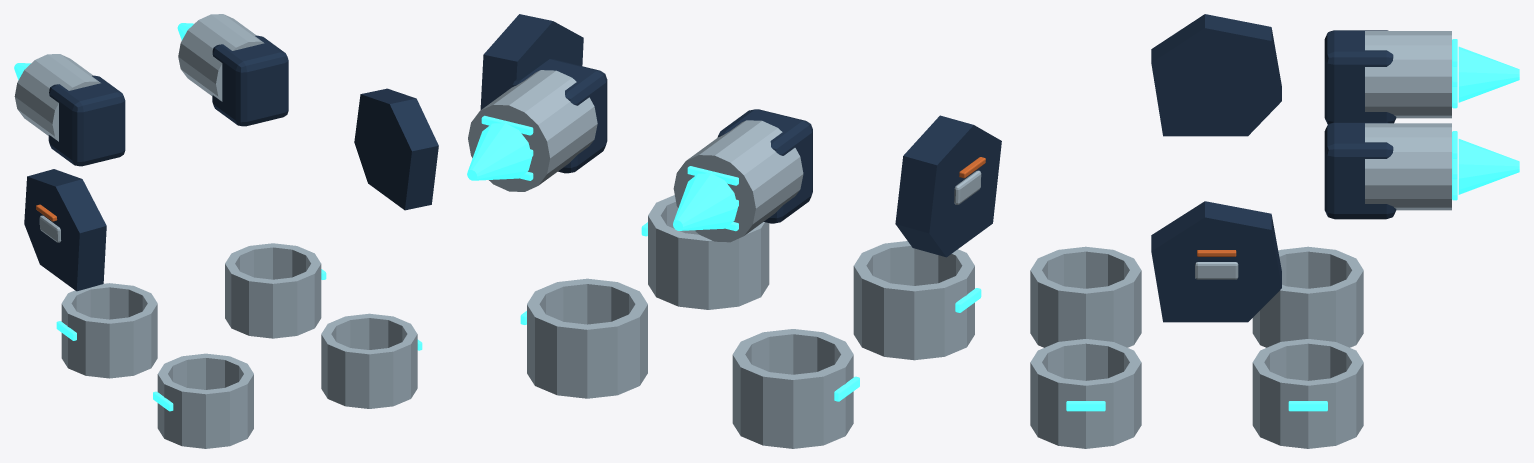
File: mechaplayer-arcade-v1-accessories.fbx
The picture shows the model from 3 angles, left to right: view 1: azimuth 30°, elevation 25°; view 2: azimuth 150°, elevation 25°; view 3: azimuth 270°, elevation 25°; orthographic projection. The views are drawn at different scales.
Visible parts, largest first — view 1: MechBoot_1_0, MechBoot_1_1, MechBoot_-1_0, MechBoot_-1_1, MechGuard_1, MechGuard_-1, ThrusterBracket_-1, ThrusterBracket_1, ThrusterHousing_1, ThrusterHousing_-1; view 2: MechBoot_1_1, MechBoot_-1_1, MechBoot_-1_0, MechGuard_-1, MechBoot_1_0, ThrusterHousing_-1, ThrusterHousing_1, MechGuard_1, ThrusterBracket_1, ThrusterBracket_-1, ThrusterPlume_-1, ThrusterPlume_1 (+1 smaller); view 3: MechGuard_-1, MechGuard_1, MechBoot_1_0, MechBoot_1_1, MechBoot_-1_0, MechBoot_-1_1, ThrusterHousing_-1, ThrusterHousing_1, ThrusterBracket_1, ThrusterBracket_-1, ThrusterPlume_1, ThrusterPlume_-1 (+1 smaller).
Boxes of the visible parts, left/top/right/bottom form: MechBoot_1_0: left=321, top=313, right=417, bottom=408; MechBoot_1_1: left=225, top=243, right=321, bottom=338; MechBoot_-1_0: left=157, top=353, right=253, bottom=448; MechBoot_-1_1: left=61, top=283, right=157, bottom=378; MechGuard_1: left=354, top=88, right=438, bottom=210; MechGuard_-1: left=24, top=169, right=106, bottom=291; ThrusterBracket_-1: left=48, top=75, right=125, bottom=166; ThrusterBracket_1: left=212, top=35, right=288, bottom=126; ThrusterHousing_1: left=178, top=14, right=264, bottom=101; ThrusterHousing_-1: left=14, top=54, right=100, bottom=141; MechBoot_1_1: left=527, top=278, right=647, bottom=398; MechBoot_-1_1: left=732, top=329, right=853, bottom=448; MechBoot_-1_0: left=853, top=241, right=974, bottom=360; MechGuard_-1: left=895, top=115, right=1001, bottom=257; MechBoot_1_0: left=648, top=195, right=769, bottom=309; ThrusterHousing_-1: left=673, top=120, right=803, bottom=242; ThrusterHousing_1: left=468, top=70, right=597, bottom=191; MechGuard_1: left=480, top=14, right=583, bottom=109; ThrusterBracket_1: left=511, top=59, right=607, bottom=173; ThrusterBracket_-1: left=717, top=109, right=812, bottom=223; ThrusterPlume_-1: left=673, top=173, right=737, bottom=230; ThrusterPlume_1: left=467, top=123, right=531, bottom=180; MechGuard_-1: left=1151, top=14, right=1281, bottom=136; MechGuard_1: left=1151, top=201, right=1281, bottom=322; MechBoot_1_0: left=1030, top=339, right=1141, bottom=448; MechBoot_1_1: left=1252, top=339, right=1363, bottom=448; MechBoot_-1_0: left=1030, top=246, right=1141, bottom=347; MechBoot_-1_1: left=1252, top=246, right=1363, bottom=347; ThrusterHousing_-1: left=1365, top=31, right=1451, bottom=118; ThrusterHousing_1: left=1365, top=123, right=1451, bottom=210; ThrusterBracket_1: left=1324, top=122, right=1396, bottom=219; ThrusterBracket_-1: left=1324, top=30, right=1396, bottom=124; ThrusterPlume_1: left=1458, top=139, right=1519, bottom=194; ThrusterPlume_-1: left=1458, top=46, right=1519, bottom=102.
Size of the model in its own units: 1373 by 906 by 1347.
